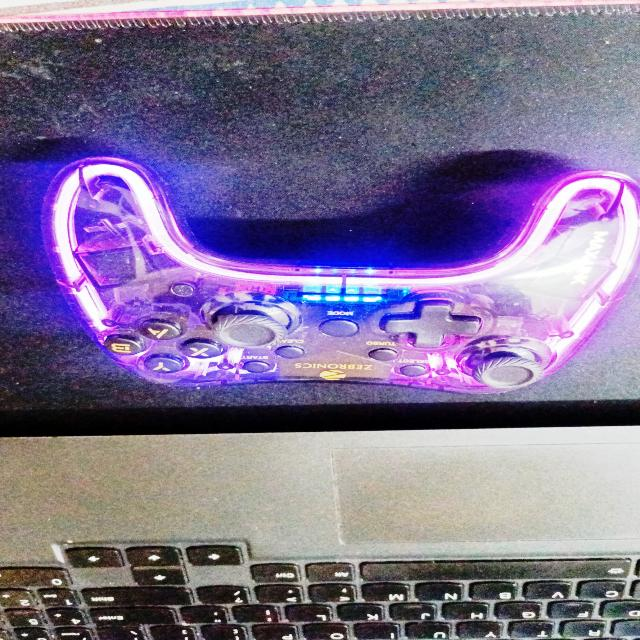gamepad: (40, 156, 640, 395)
